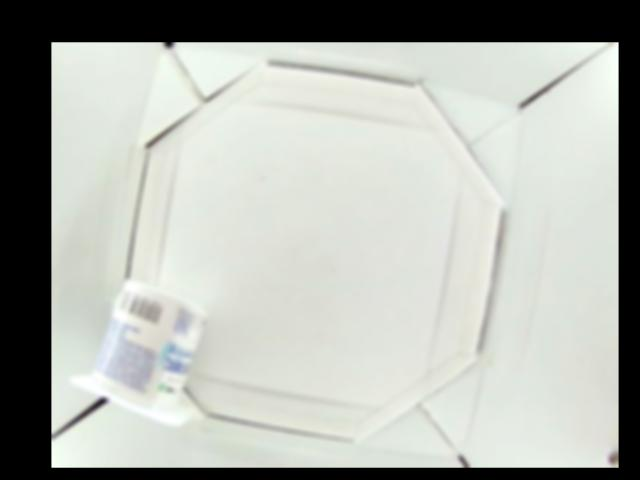Cup: (70, 275, 212, 426)
